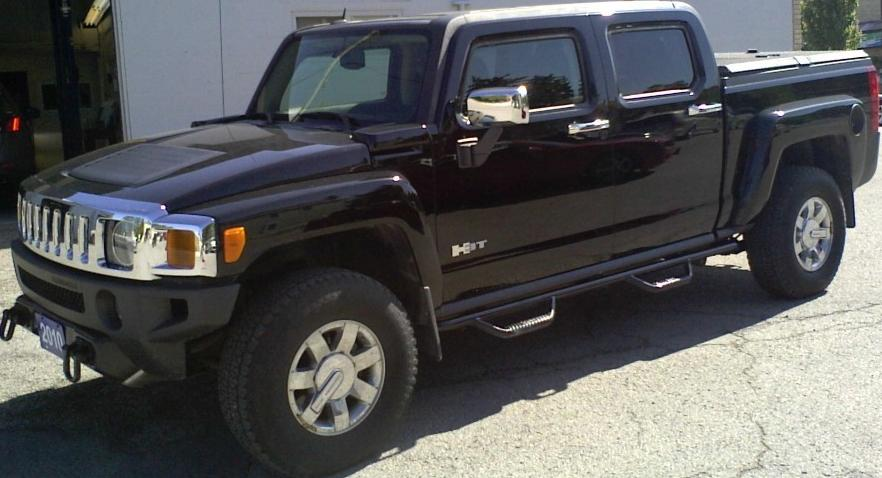front_view: (6, 187, 238, 454)
headlight: (108, 205, 244, 308)
side_glass: (425, 10, 725, 116)
